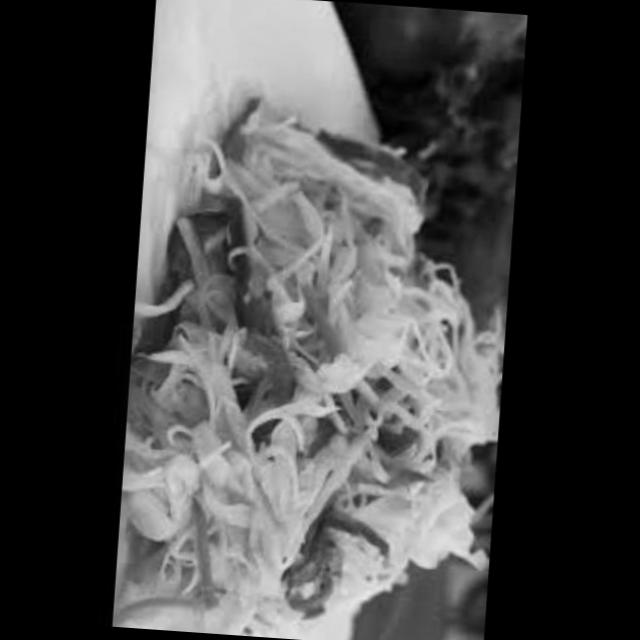ca rot: (220, 229, 310, 432), (188, 502, 234, 633), (116, 588, 202, 624)
cai bap: (115, 425, 348, 621), (286, 168, 475, 398), (182, 88, 328, 234), (347, 452, 484, 602), (165, 324, 261, 446), (431, 323, 506, 473)
ot cay: (274, 486, 396, 626), (136, 237, 202, 365), (324, 133, 437, 191), (381, 416, 426, 455)
